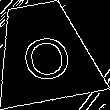O_N: (15, 23, 73, 81)
